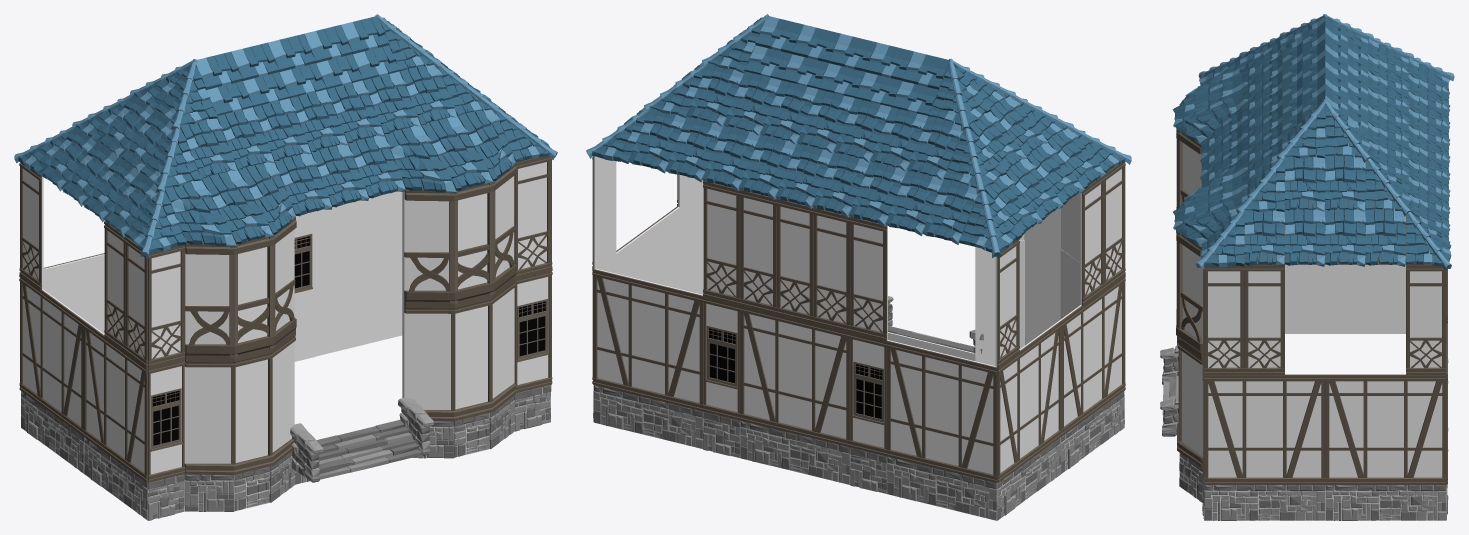
The model's file is House_14_parts.glb.
3 renders of one model, left to right at view 1: azimuth 30°, elevation 25°; view 2: azimuth 150°, elevation 25°; view 3: azimuth 270°, elevation 25°, orthographic. The views are drawn at different scales.
Visible parts, largest first — view 1: WINDOW_02_Balkon_3, WINDOW_01_Balkon_2, WINDOW_02_Balkon_2, WINDOW_01_Balkon_3, WALL_02_6, ROOF_base_round_3, ROOF_base_round_2, WALL_02_2, WALL_02_3, STAIRS_02_2, WALL_04_3, WALL_04_4 (+50 smaller); view 2: WALL_02_4, WALL_02_6, WALL_02_5, WALL_02_3, WALL_02_2, WINDOW_01_Balkon_2, WALL_04_8, WALL_04_9, WALL_04_12, WALL_04_11, WALL_04_10, WINDOW_04_6 (+58 smaller); view 3: WALL_02_7, WALL_02_8, WALL_04_14, WALL_04_13, WALL_04_15, FOUNDATION_02_25, FOUNDATION_02_26, ROOF_base_round_3, ROOF_base_round_2, FOUNDATION_02_30, WINDOW_02_Balkon_3, WINDOW_01_Balkon_3 (+70 smaller).
Part boxes in pixels (x1,y1,x2,y2): WINDOW_02_Balkon_3: (402,164,516,305); WINDOW_01_Balkon_2: (184,333,295,474); WINDOW_02_Balkon_2: (185,217,296,359); WINDOW_01_Balkon_3: (402,279,515,421); WALL_02_6: (315,191,402,318); ROOF_base_round_3: (384,108,515,193); ROOF_base_round_2: (165,162,295,246); WALL_02_2: (83,320,147,482); WALL_02_3: (19,275,85,435); STAIRS_02_2: (290,398,433,482); WALL_04_3: (514,156,551,277); WALL_04_4: (148,245,185,367); WALL_02_4: (886,340,997,482); WALL_02_6: (592,269,703,411); WALL_02_5: (739,305,850,447); WALL_02_3: (997,320,1062,482); WALL_02_2: (1059,275,1125,435); WINDOW_01_Balkon_2: (975,240,1080,355); WALL_04_8: (849,216,887,340); WALL_04_9: (813,207,850,331); WALL_04_12: (703,181,740,305); WALL_04_11: (739,189,776,313); WALL_04_10: (776,198,813,322); WINDOW_04_6: (849,332,886,456); WALL_02_7: (1325,374,1446,484); WALL_02_8: (1204,374,1325,484); WALL_04_14: (1244,264,1284,374); WALL_04_13: (1406,264,1446,374); WALL_04_15: (1204,265,1244,374); FOUNDATION_02_25: (1204,485,1325,520); FOUNDATION_02_26: (1325,485,1446,520); ROOF_base_round_3: (1173,159,1242,246); ROOF_base_round_2: (1172,56,1242,143); FOUNDATION_02_30: (1325,297,1405,333); WINDOW_02_Balkon_3: (1176,231,1202,357); WINDOW_01_Balkon_3: (1177,341,1203,467).
Size of the model in its own units: 11.41 by 10.12 by 7.29.
1 material, 1 textured.
